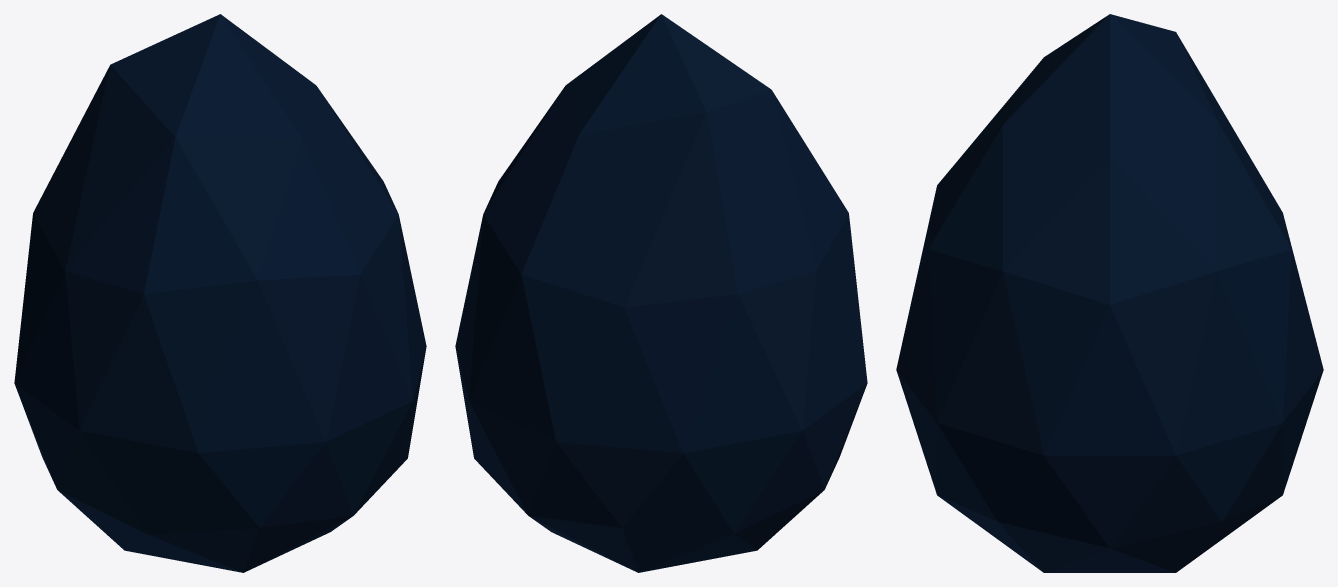
File: oceanRock.fbx
3 renders of one model, left to right at view 1: azimuth 30°, elevation 25°; view 2: azimuth 150°, elevation 25°; view 3: azimuth 270°, elevation 25°, orthographic.
Parts seen in each view (by area): view 1: Icosphere; view 2: Icosphere; view 3: Icosphere.
Part boxes in pixels (x1=…): Icosphere: x1=14, y1=14, x2=426, y2=572; Icosphere: x1=455, y1=14, x2=867, y2=572; Icosphere: x1=896, y1=14, x2=1323, y2=572.
Bounding box in the file's own units: 380 × 567 × 400.
